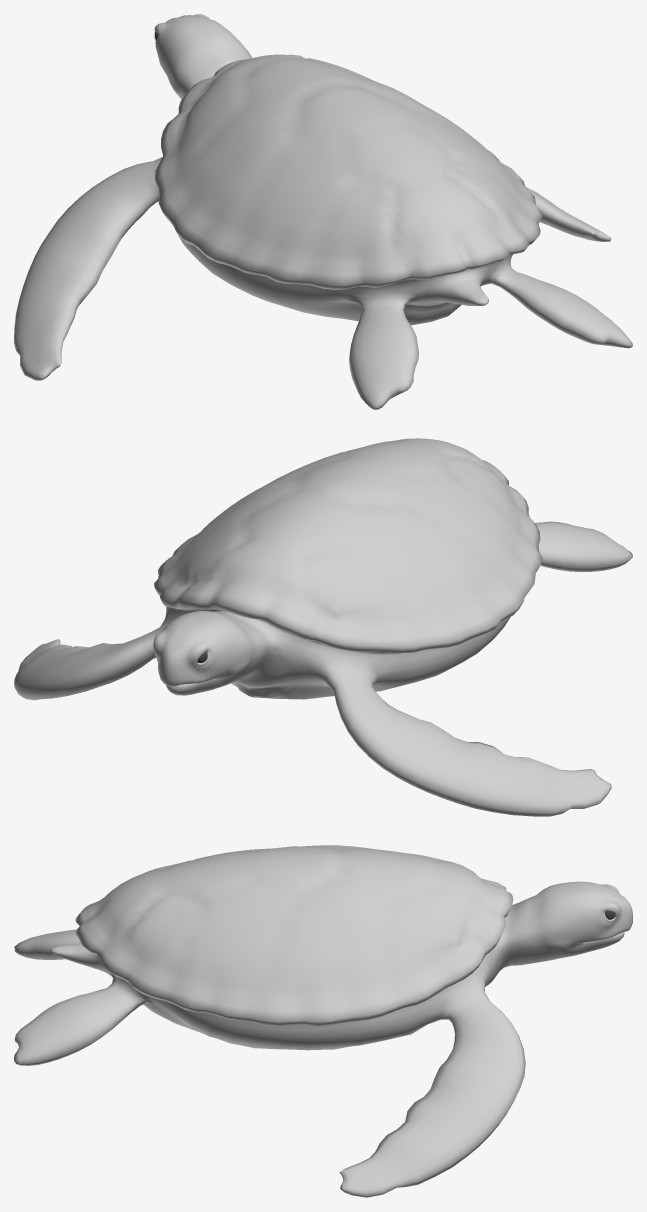
The picture shows the model from 3 angles, top to bottom: view 1: azimuth 30°, elevation 25°; view 2: azimuth 150°, elevation 25°; view 3: azimuth 270°, elevation 25°; orthographic projection. The views are drawn at different scales.
Parts seen in each view (by area): view 1: turt lp arms down; view 2: turt lp arms down; view 3: turt lp arms down.
Boxes of the visible parts, x1,y1,x2,y2 form: turt lp arms down: (14, 14, 632, 409); turt lp arms down: (14, 438, 632, 816); turt lp arms down: (14, 845, 632, 1197).
Size of the model in its own units: 53.23 by 20.59 by 53.9.
